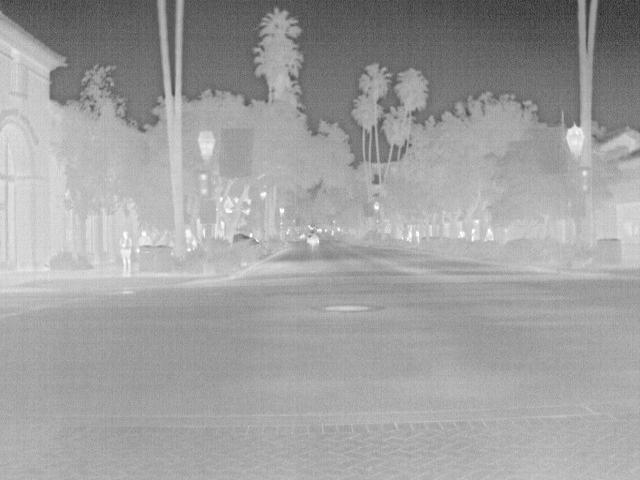car: (304, 232, 321, 244)
person: (119, 229, 134, 273), (184, 227, 199, 249), (135, 230, 152, 246), (482, 226, 495, 241)
